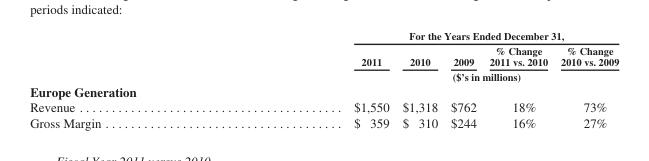table: (29, 29, 618, 129)
table column: (29, 29, 226, 129), (226, 29, 395, 129), (482, 29, 553, 129), (553, 29, 618, 129), (395, 29, 443, 129), (443, 29, 482, 129)
table column header: (29, 29, 618, 83)
table projected row header: (29, 83, 618, 99)
table row: (29, 42, 618, 68), (29, 83, 618, 99), (29, 68, 618, 83), (29, 99, 618, 114), (29, 114, 618, 129), (29, 29, 618, 42)
table spanning cell: (226, 68, 618, 83), (226, 29, 618, 42)
